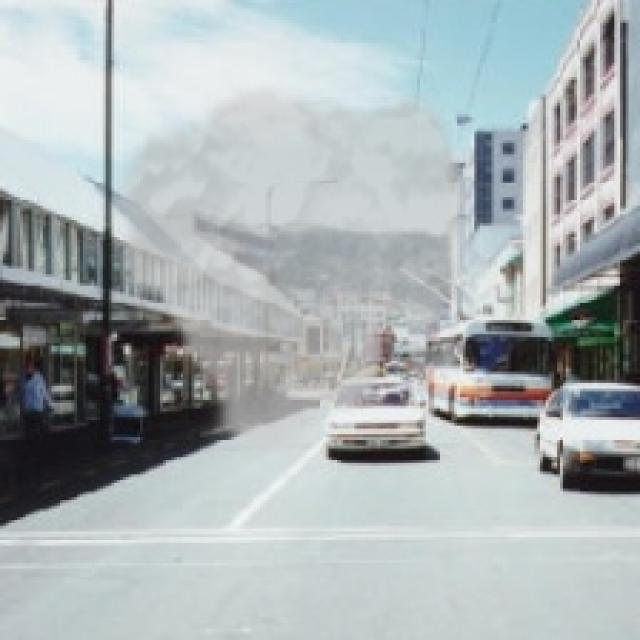Smoke: (102, 80, 478, 466)
